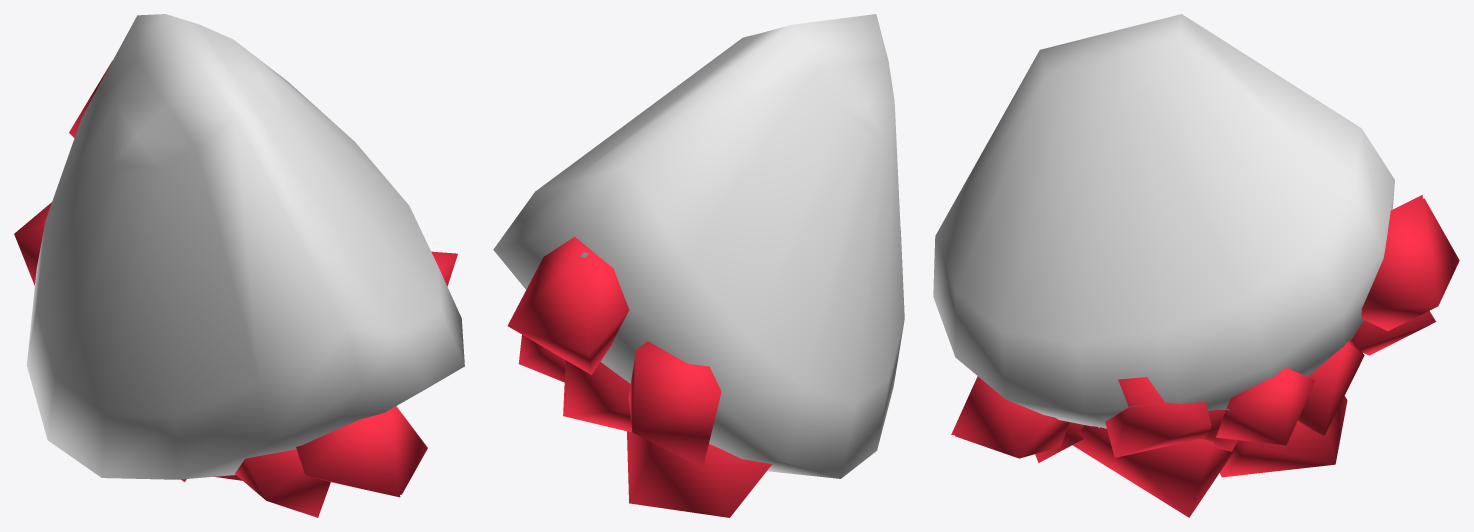
File: strawberry-rupee-slice.fbx
3 views of the same model, side by side, from view 1: azimuth 30°, elevation 25°; view 2: azimuth 150°, elevation 25°; view 3: azimuth 270°, elevation 25° (orthographic). The views are drawn at different scales.
Parts seen in each view (by area): view 1: Rupee-strawberry-slice; view 2: Rupee-strawberry-slice; view 3: Rupee-strawberry-slice.
Part boxes in pixels (bbox=[...]): Rupee-strawberry-slice: bbox=[14, 14, 464, 517]; Rupee-strawberry-slice: bbox=[493, 14, 904, 517]; Rupee-strawberry-slice: bbox=[933, 14, 1459, 517].
Size of the model in its own units: 91.21 by 122 by 130.
Materials: 2 (1 with a texture image).
